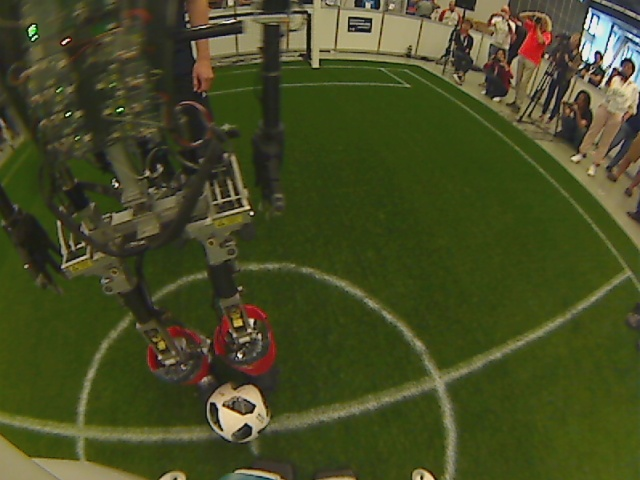ball: (202, 376, 274, 445)
